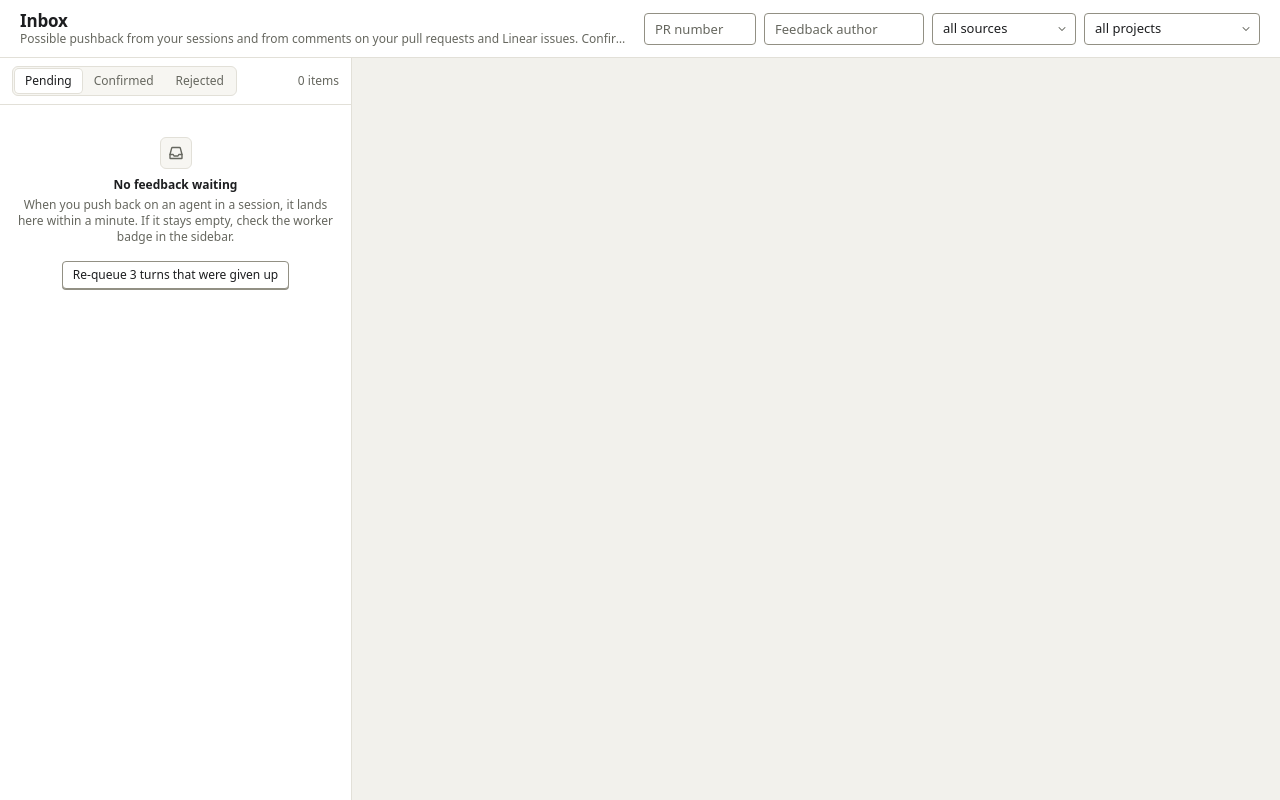
Test: an empty inbox offers to re-queue turns the classifier gave up on
Click the button "Re-queue 3 turns that were given up".
click(176, 275)  # box [62,261,289,289]
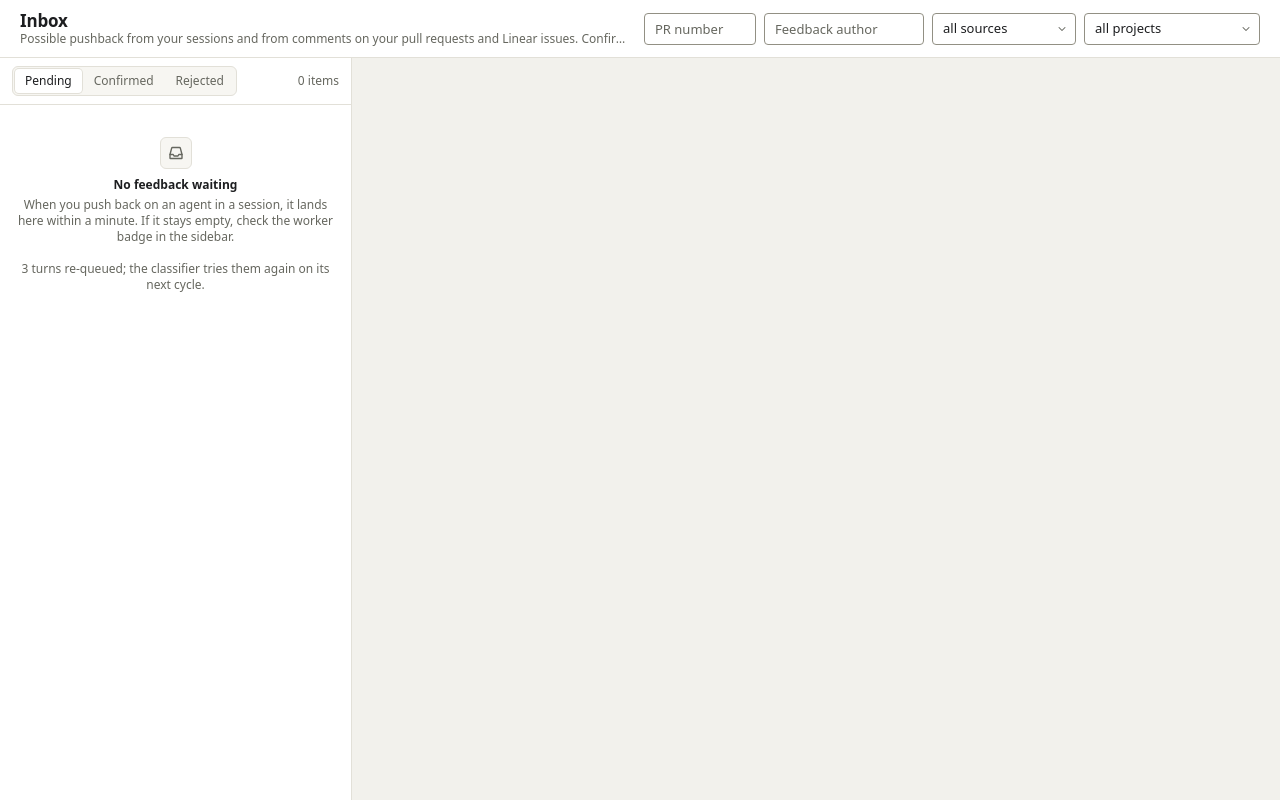
Expected: the text "3 turns re-queued" is shown, [16,261,335,293]
